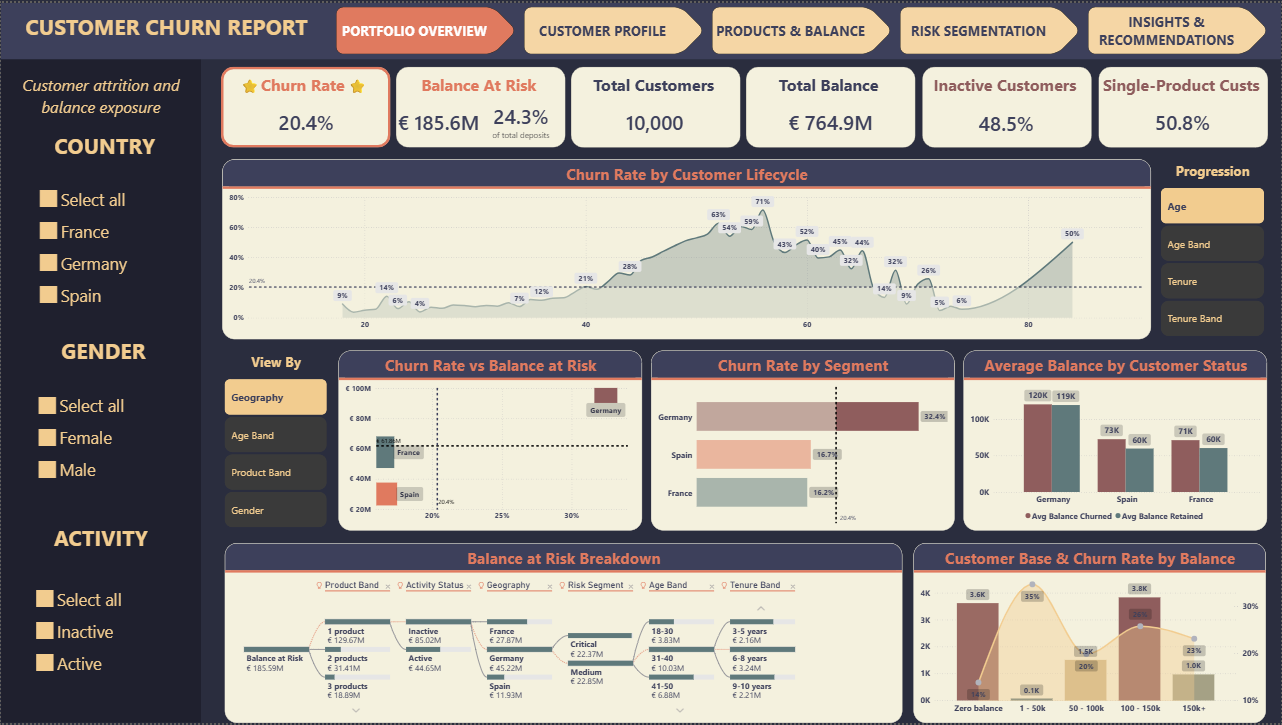

This screenshot's page, from the dashboard's own definition file:
{"tool":"powerbi","page":{"name":"PORTFOLIO OVERVIEW","canvas":[2560,1440],"ordinal":0},"visuals":[{"type":"shape","box":[0,78,400,1362],"z":500,"group":"g1"},{"type":"shape","box":[1138.6,126.7,338.9,162],"z":1000,"group":"g3"},{"type":"shape","box":[788.7,127.2,338.9,161.5],"z":1000,"group":"g2"},{"type":"shape","box":[1488.4,127.2,338.8,162],"z":1000,"group":"g4"},{"type":"shape","box":[1841.3,127.2,338.9,162],"z":1000,"group":"g5"},{"type":"shape","box":[2192.6,127.2,338.9,162],"z":1000,"group":"g6"},{"type":"shape","box":[438.3,127.9,338.9,161.5],"z":1000,"group":"g7"},{"type":"clusteredBarChart","title":"Churn Rate by Segment","fields":{"Category":["Dim_Geography.Geography"],"Y":["_Measures.Churn Rate %"]},"box":[1299.7,695,607.6,360],"z":1000,"group":"g16"},{"type":"group","id":"g1","title":"Group 2","box":[0,78,400,1362],"z":1500},{"type":"shape","box":[0,0,2560,112.5],"z":2000},{"type":"lineChart","title":"Churn Rate by Customer Lifecycle","fields":{"Category":["Fact_Customer.Age"],"Y":["_Measures.Churn Rate %"]},"box":[442.5,312.5,1857.5,360],"z":2000,"group":"g14"},{"type":"textbox","box":[67.5,250,280,87.5],"z":3000,"group":"g1"},{"type":"textbox","box":[2315.5,312.5,217,52.9],"z":3000,"group":"g14"},{"type":"decompositionTreeVisual","title":"Balance at Risk Breakdown","fields":{"Analyze":["_Measures.Balance at Risk"],"ExplainBy":["Dim_ProductBand.ProductBand","Dim_ActivityStatus.Activity_Status","Dim_Geography.Geography","Dim_RiskSegment.RiskSegment","Dim_AgeBand.Age_Band","Dim_TenureBand.TenureBand"]},"box":[447.5,1080,1355.3,360],"z":3000,"group":"g17"},{"type":"pageNavigator","box":[670,8.3,1866.7,95],"z":4000},{"type":"group","id":"g2","title":"Group 1","box":[782.1,127.2,345.7,161.5],"z":5000,"group":"g10"},{"type":"textbox","box":[1132,136.3,345.7,74.1],"z":5000,"group":"g3"},{"type":"textbox","box":[782.1,136.8,345.7,73.9],"z":5000,"group":"g2"},{"type":"textbox","box":[1481.8,136.8,345.6,74.1],"z":5000,"group":"g4"},{"type":"textbox","box":[1834.7,136.8,345.7,74.1],"z":5000,"group":"g5"},{"type":"textbox","box":[2186,136.8,345.7,74.1],"z":5000,"group":"g6"},{"type":"textbox","box":[431.7,137.5,345.7,73.9],"z":5000,"group":"g7"},{"type":"slicer","fields":{"Values":["Dim_Geography.Geography"]},"box":[65,360,280,265],"z":5000,"group":"g1"},{"type":"textbox","box":[446.9,695,205.5,52],"z":5000,"group":"g16"},{"type":"group","id":"g3","title":"Group 1","box":[1132,126.7,346,162],"z":6000,"group":"g12"},{"type":"group","id":"g4","title":"Group 1","box":[1481.8,127.2,345.6,162],"z":6000,"group":"g11"},{"type":"group","id":"g5","title":"Group 1","box":[1834.7,127.2,345.7,163.7],"z":6000,"group":"g15"},{"type":"group","id":"g6","title":"Group 1","box":[2186,127.2,345.7,162],"z":6000,"group":"g13"},{"type":"group","id":"g7","title":"Group 1","box":[431.7,127.9,346.7,164.2],"z":6000,"group":"g8"},{"type":"group","id":"g8","title":"Group 3","box":[431.7,127.9,346.7,164.2],"z":6000,"group":"g10"},{"type":"clusteredColumnChart","title":"Average Balance by Customer Status","fields":{"Category":["Dim_Geography.Geography"],"Y":["_Measures.Avg Balance Churned","_Measures.Avg Balance Retained"]},"box":[1924.9,695,607.6,360],"z":6000,"group":"g16"},{"type":"group","id":"g9","title":"Group 5","box":[0,12.5,662.5,90],"z":7000},{"type":"lineClusteredColumnComboChart","title":"Customer Base & Churn Rate by Balance","fields":{"Category":["Dim_BalanceBand.BalanceBand"],"Y":["_Measures.Total Customers"],"Y2":["_Measures.Churn Rate %"]},"box":[1824.8,1080,705.2,360],"z":7000,"group":"g17"},{"type":"textbox","box":[67.5,660,275,87.5],"z":8000,"group":"g1"},{"type":"scatterChart","title":"Churn Rate vs Balance at Risk","fields":{"Category":["Dim_Geography.Geography"],"Size":["_Measures.Total Customers"],"X":["_Measures.Churn Rate %"],"Y":["_Measures.Balance at Risk"]},"box":[674.5,695,607.6,360],"z":9000,"group":"g16"},{"type":"slicer","fields":{"Values":["Dim_Gender.Gender"]},"box":[62.5,772.5,275,205],"z":9000,"group":"g1"},{"type":"group","id":"g10","title":"Group 4","box":[431.7,126.7,2100,165.4],"z":10000},{"type":"textbox","box":[0,137.5,400,130],"z":11000,"group":"g1"},{"type":"textbox","box":[0,12.5,662.5,90],"z":12000,"group":"g9"},{"type":"group","id":"g11","title":"Group 3","box":[1481.8,127.2,345.6,162],"z":12000,"group":"g10"},{"type":"group","id":"g12","title":"Group 3","box":[1132,126.7,346,162],"z":13000,"group":"g10"},{"type":"advancedSlicerVisual","fields":{"Values":["Customer Dimension.Customer Dimension"]},"box":[442.5,747,214.3,308],"z":13000,"group":"g16"},{"type":"textbox","box":[60,1035,280,87],"z":13000,"group":"g1"},{"type":"group","id":"g13","title":"Group 3","box":[2186,127.2,345.7,162],"z":14000,"group":"g10"},{"type":"group","id":"g14","title":"Group 7","box":[442.5,312.5,2090,360],"z":14000},{"type":"slicer","fields":{"Values":["Dim_ActivityStatus.Activity_Status"]},"box":[57.5,1160,280,197.5],"z":15000,"group":"g1"},{"type":"group","id":"g15","title":"Group 3","box":[1834.7,127.2,345.7,163.7],"z":16000,"group":"g10"},{"type":"cardVisual","fields":{"Data":["_Measures.Churn Rate %"]},"box":[442.4,184.1,336,108],"z":16000,"group":"g7"},{"type":"cardVisual","fields":{"Data":["_Measures.Balance at Risk","_Measures.Balance at Risk %"]},"box":[786.1,184.9,340,102],"z":16000,"group":"g2"},{"type":"cardVisual","fields":{"Data":["_Measures.Total Balance"]},"box":[1488.3,184.9,338,104],"z":16000,"group":"g4"},{"type":"cardVisual","fields":{"Data":["_Measures.Inactive %"]},"box":[1841.4,184.9,336,106],"z":16000,"group":"g5"},{"type":"cardVisual","fields":{"Data":["_Measures.Single Product %"]},"box":[2194,184.9,336,104],"z":16000,"group":"g6"},{"type":"cardVisual","fields":{"Data":["_Measures.Total Customers"]},"box":[1138,185.4,340,102],"z":16000,"group":"g3"},{"type":"group","id":"g16","title":"Group 8","box":[442.5,695,2090,360],"z":16000},{"type":"group","id":"g17","title":"Group 9","box":[447.5,1080,2082.5,360],"z":17000},{"type":"advancedSlicerVisual","fields":{"Values":["Progression.Progression"]},"box":[2315.5,365.4,217,307.1],"z":18000,"group":"g14"}]}

Visuals, with their boxes in screenshot pixels (x1, y1, x2, y2), scaled from the page's 2560x1440 canvas onto the 1282x725 screenshot:
shape: x1=0, y1=39, x2=200, y2=724
shape: x1=570, y1=64, x2=740, y2=145
shape: x1=395, y1=64, x2=565, y2=145
shape: x1=745, y1=64, x2=915, y2=146
shape: x1=922, y1=64, x2=1092, y2=146
shape: x1=1098, y1=64, x2=1268, y2=146
shape: x1=219, y1=64, x2=389, y2=146
"Churn Rate by Segment" clusteredBarChart: x1=651, y1=350, x2=955, y2=531
"Group 2" group: x1=0, y1=39, x2=200, y2=724
shape: x1=0, y1=0, x2=1281, y2=57
"Churn Rate by Customer Lifecycle" lineChart: x1=222, y1=157, x2=1152, y2=339
textbox: x1=34, y1=126, x2=174, y2=170
textbox: x1=1160, y1=157, x2=1268, y2=184
"Balance at Risk Breakdown" decompositionTreeVisual: x1=224, y1=544, x2=903, y2=724
pageNavigator: x1=336, y1=4, x2=1270, y2=52
"Group 1" group: x1=392, y1=64, x2=565, y2=145
textbox: x1=567, y1=69, x2=740, y2=106
textbox: x1=392, y1=69, x2=565, y2=106
textbox: x1=742, y1=69, x2=915, y2=106
textbox: x1=919, y1=69, x2=1092, y2=106
textbox: x1=1095, y1=69, x2=1268, y2=106
textbox: x1=216, y1=69, x2=389, y2=106
slicer - Dim_Geography.Geography: x1=33, y1=181, x2=173, y2=315
textbox: x1=224, y1=350, x2=327, y2=376
"Group 1" group: x1=567, y1=64, x2=740, y2=145
"Group 1" group: x1=742, y1=64, x2=915, y2=146
"Group 1" group: x1=919, y1=64, x2=1092, y2=146
"Group 1" group: x1=1095, y1=64, x2=1268, y2=146
"Group 1" group: x1=216, y1=64, x2=390, y2=147
"Group 3" group: x1=216, y1=64, x2=390, y2=147
"Average Balance by Customer Status" clusteredColumnChart: x1=964, y1=350, x2=1268, y2=531
"Group 5" group: x1=0, y1=6, x2=332, y2=52
"Customer Base & Churn Rate by Balance" lineClusteredColumnComboChart: x1=914, y1=544, x2=1267, y2=724
textbox: x1=34, y1=332, x2=172, y2=376
"Churn Rate vs Balance at Risk" scatterChart: x1=338, y1=350, x2=642, y2=531
slicer - Dim_Gender.Gender: x1=31, y1=389, x2=169, y2=492
"Group 4" group: x1=216, y1=64, x2=1268, y2=147
textbox: x1=0, y1=69, x2=200, y2=135
textbox: x1=0, y1=6, x2=332, y2=52
"Group 3" group: x1=742, y1=64, x2=915, y2=146
"Group 3" group: x1=567, y1=64, x2=740, y2=145
advancedSlicerVisual - Customer Dimension.Customer Dimension: x1=222, y1=376, x2=329, y2=531
textbox: x1=30, y1=521, x2=170, y2=565
"Group 3" group: x1=1095, y1=64, x2=1268, y2=146
"Group 7" group: x1=222, y1=157, x2=1268, y2=339
slicer - Dim_ActivityStatus.Activity_Status: x1=29, y1=584, x2=169, y2=683
"Group 3" group: x1=919, y1=64, x2=1092, y2=146
cardVisual - _Measures.Churn Rate %: x1=222, y1=93, x2=390, y2=147
cardVisual - _Measures.Balance at Risk x _Measures.Balance at Risk %: x1=394, y1=93, x2=564, y2=144
cardVisual - _Measures.Total Balance: x1=745, y1=93, x2=915, y2=145
cardVisual - _Measures.Inactive %: x1=922, y1=93, x2=1090, y2=146
cardVisual - _Measures.Single Product %: x1=1099, y1=93, x2=1267, y2=145
cardVisual - _Measures.Total Customers: x1=570, y1=93, x2=740, y2=145
"Group 8" group: x1=222, y1=350, x2=1268, y2=531
"Group 9" group: x1=224, y1=544, x2=1267, y2=724
advancedSlicerVisual - Progression.Progression: x1=1160, y1=184, x2=1268, y2=339
